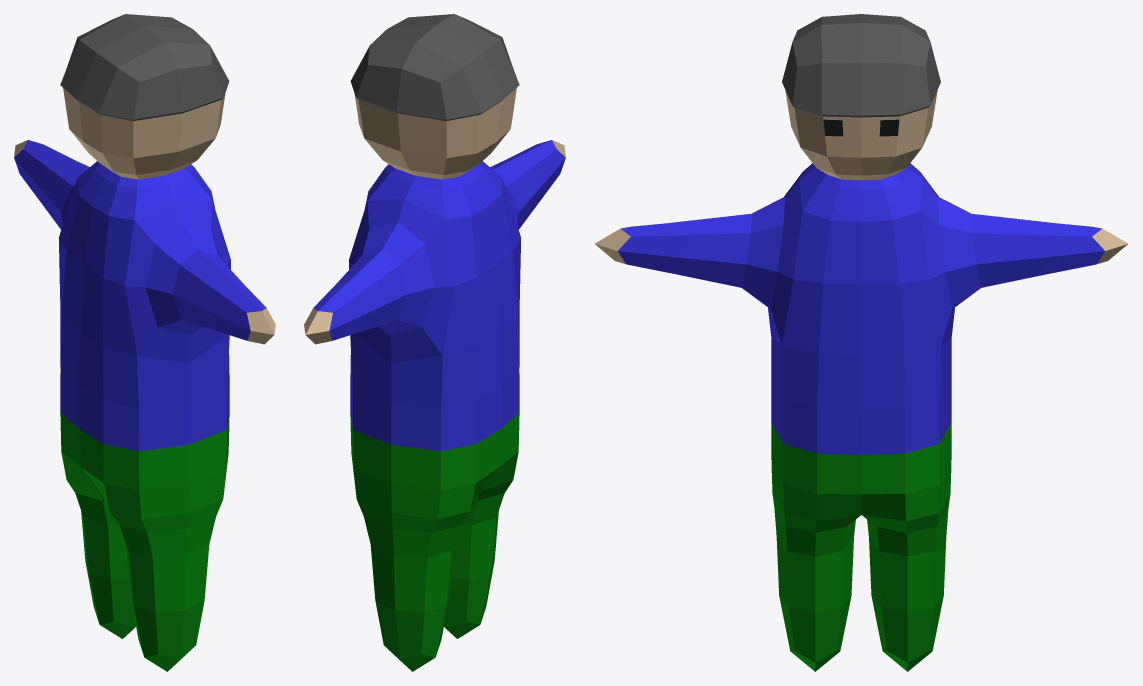
Rendered from Person.fbx.
The picture shows the model from 3 angles, left to right: view 1: azimuth 30°, elevation 25°; view 2: azimuth 150°, elevation 25°; view 3: azimuth 270°, elevation 25°; orthographic projection. The views are drawn at different scales.
Visible parts, largest first — view 1: Cube; view 2: Cube; view 3: Cube.
Boxes of the visible parts, x1=… form: Cube: x1=14, y1=14, x2=275, y2=671; Cube: x1=304, y1=14, x2=565, y2=671; Cube: x1=595, y1=14, x2=1127, y2=671.
Bounding box in the file's own units: 113 × 498 × 371.
